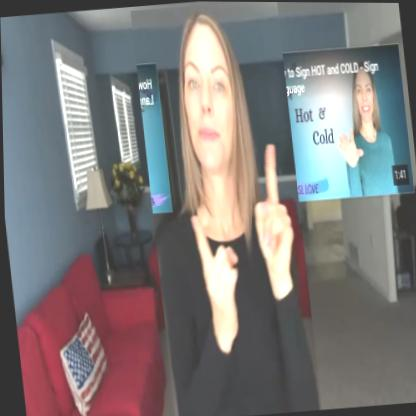NiceToMeetYou: (130, 1, 319, 416)
